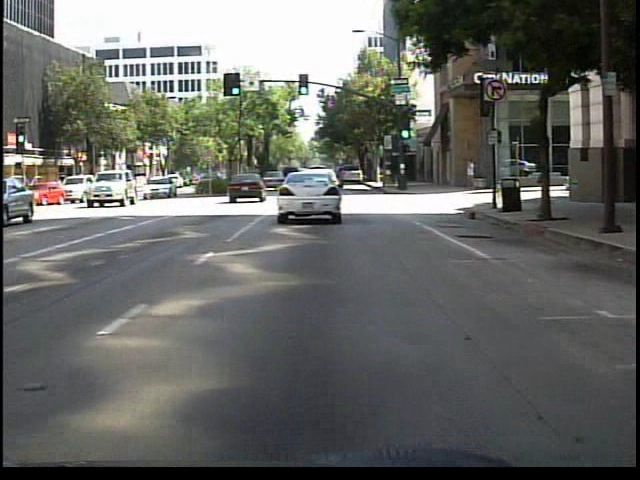person: (462, 154, 478, 194)
